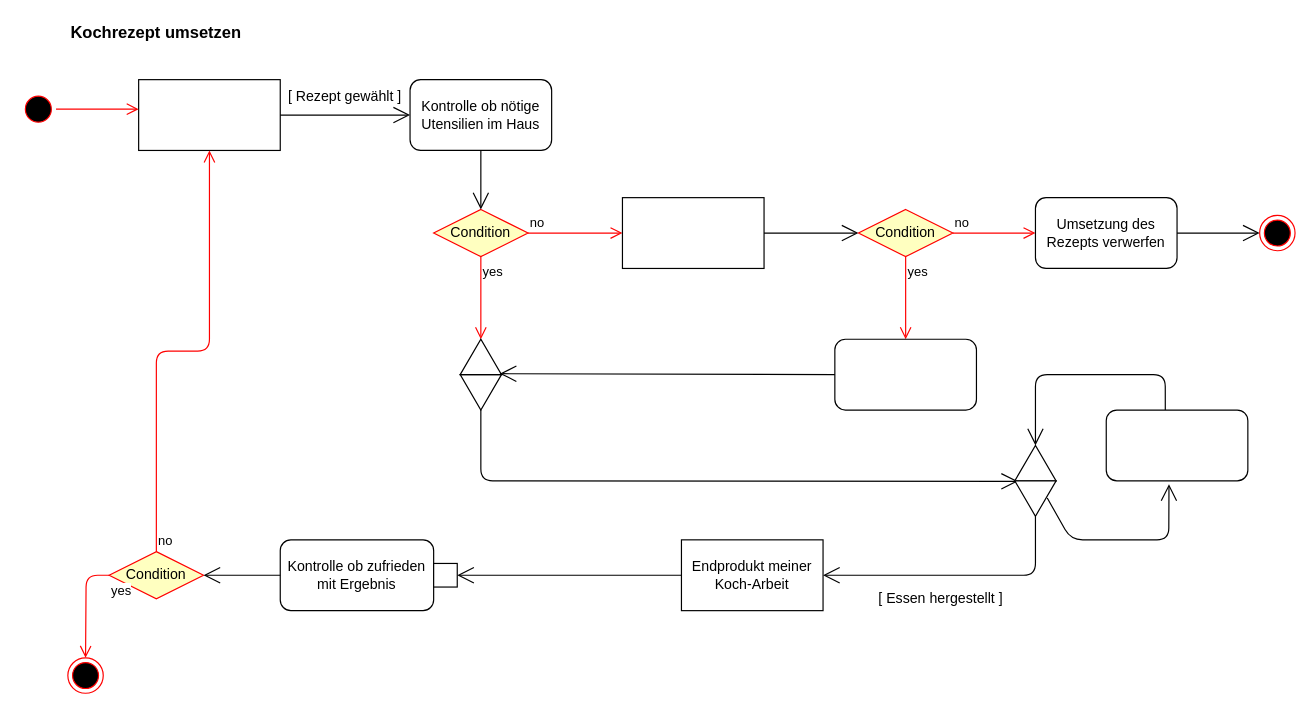
Some shapes in this 1316 by 714 pixel diagram are drawn without their labels. Here are the shapes that lost their labels. From the top down, the centre of each, then its label:
At point (208, 114): "Gedanken machen auf was ich lust habe zu kochen".
At point (692, 232): "Habe ich Lust einzukaufen ?".
At point (905, 374): "Besorgung nötiger Utensilien".
At point (1176, 445): "Arbeitsschritte in Kochbuch befolgen".
